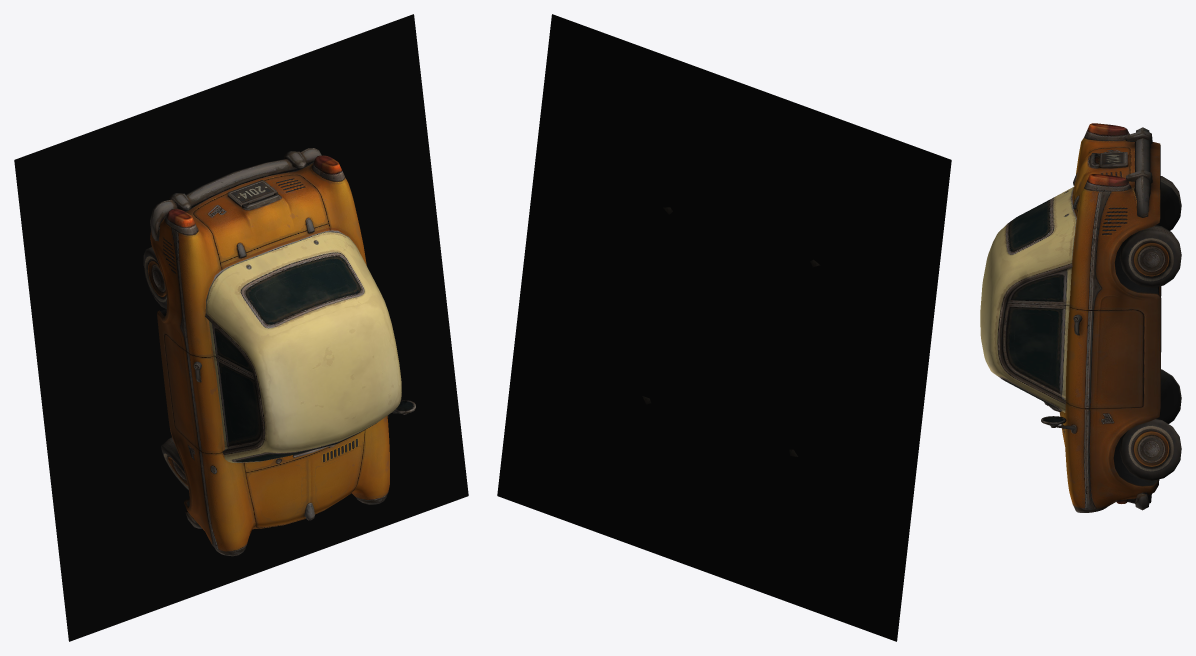
Rendered from car.obj.
The picture shows the model from 3 angles, left to right: view 1: azimuth 30°, elevation 25°; view 2: azimuth 150°, elevation 25°; view 3: azimuth 270°, elevation 25°; orthographic projection. The views are drawn at different scales.
Visible parts, largest first — view 1: Pony_cartoon2; view 2: Pony_cartoon2; view 3: Pony_cartoon2.
Boxes of the visible parts, x1=… form: Pony_cartoon2: x1=14, y1=14, x2=468, y2=641; Pony_cartoon2: x1=497, y1=14, x2=951, y2=641; Pony_cartoon2: x1=980, y1=123, x2=1181, y2=512.
Bounding box in the file's own units: 2.85 × 3.26 × 1.16.
